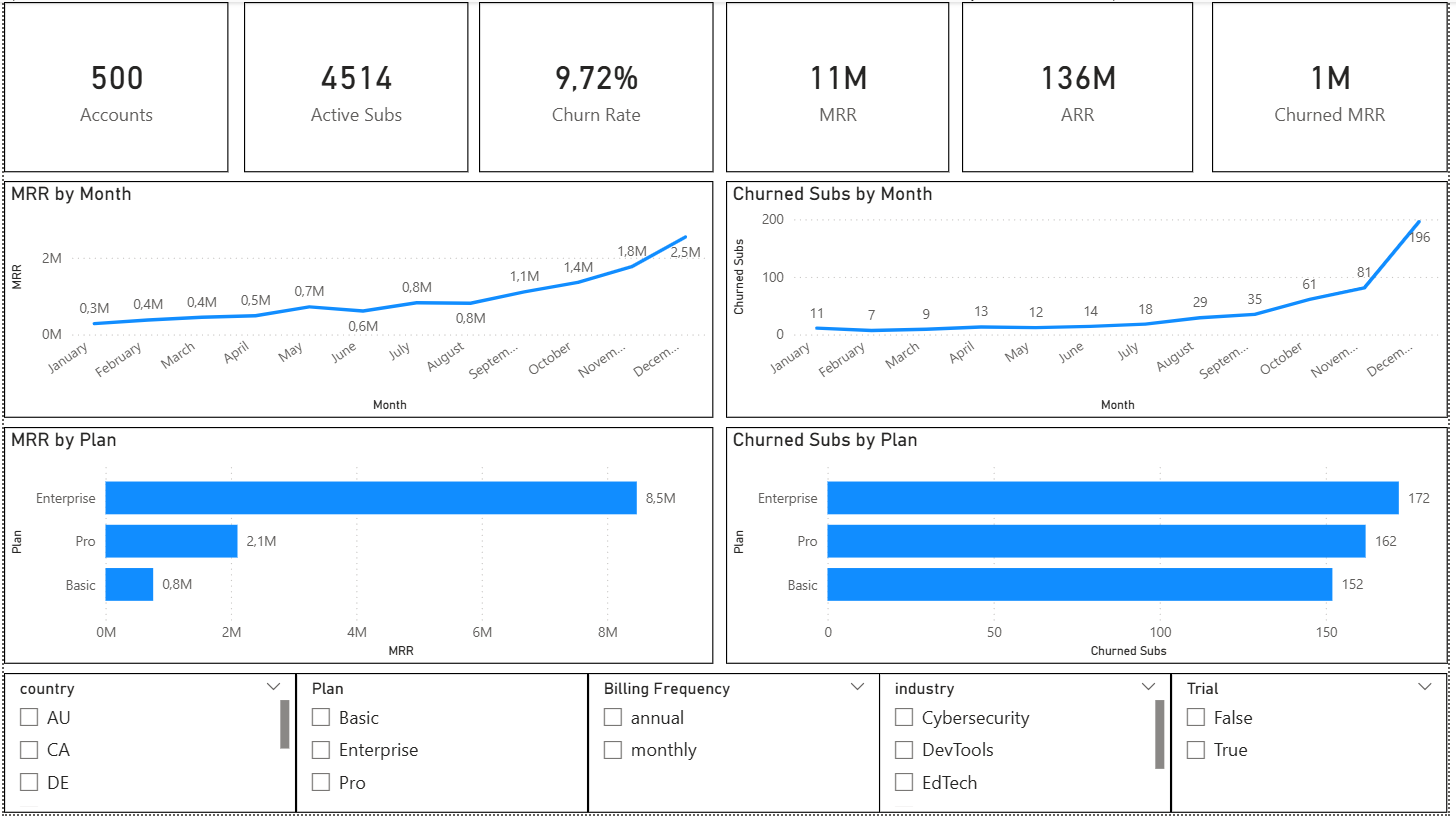

The page's visual inventory and layout, read from the dashboard file:
{"tool":"powerbi","page":{"name":"Overview","canvas":[1280,720],"ordinal":0},"visuals":[{"type":"card","fields":{"Values":["ravenstack_subscriptions.Accounts"]},"box":[0,0,199.4,150.8],"z":0},{"type":"card","fields":{"Values":["ravenstack_subscriptions.Churn Rate"]},"box":[421.2,0,208.1,150.8],"z":1000},{"type":"card","fields":{"Values":["ravenstack_subscriptions.MRR"]},"box":[640,0,198.4,150.8],"z":2000},{"type":"card","fields":{"Values":["ravenstack_subscriptions.ARR"]},"box":[849.1,0,205.2,150.8],"z":3000},{"type":"card","fields":{"Values":["ravenstack_subscriptions.Churned MRR"]},"box":[1070.9,0,209.1,150.8],"z":4000},{"type":"card","fields":{"Values":["ravenstack_subscriptions.Active Subs"]},"box":[213,0,199.4,150.8],"z":5000},{"type":"lineChart","fields":{"Category":["ravenstack_subscriptions.start_date.Variation.Date Hierarchy.Year","ravenstack_subscriptions.start_date.Variation.Date Hierarchy.Quarter","ravenstack_subscriptions.start_date.Variation.Date Hierarchy.Month"],"Y":["ravenstack_subscriptions.MRR"]},"box":[0,158.5,629.3,210.1],"z":6000},{"type":"lineChart","fields":{"Category":["ravenstack_subscriptions.end_date.Variation.Date Hierarchy.Year","ravenstack_subscriptions.end_date.Variation.Date Hierarchy.Quarter","ravenstack_subscriptions.end_date.Variation.Date Hierarchy.Month","ravenstack_subscriptions.end_date.Variation.Date Hierarchy.Day"],"Y":["ravenstack_subscriptions.Churned Subs"]},"box":[640,158.5,640,210.1],"z":7000},{"type":"barChart","fields":{"Category":["ravenstack_subscriptions.plan_tier"],"Y":["ravenstack_subscriptions.MRR"]},"box":[0,376.4,629.3,210.1],"z":8000},{"type":"barChart","fields":{"Category":["ravenstack_subscriptions.plan_tier"],"Y":["ravenstack_subscriptions.Churned Subs"]},"box":[640,376.4,640,210.1],"z":9000},{"type":"slicer","fields":{"Values":["ravenstack_accounts.country"]},"box":[0,595.3,258.7,124.5],"z":10000},{"type":"slicer","fields":{"Values":["ravenstack_subscriptions.plan_tier"]},"box":[258.7,595.3,258.7,124.5],"z":11000},{"type":"slicer","fields":{"Values":["ravenstack_subscriptions.billing_frequency"]},"box":[517.4,595.3,258.7,124.5],"z":12000},{"type":"slicer","fields":{"Values":["ravenstack_accounts.industry"]},"box":[776.2,595.3,258.7,124.5],"z":13000},{"type":"slicer","fields":{"Values":["ravenstack_subscriptions.is_trial"]},"box":[1034.9,595.3,245.1,124.5],"z":14000}]}

Visuals, with their boxes in screenshot pixels (x1, y1, x2, y2), scaled from the page's 1280x720 canvas onto the 1456x822 screenshot:
card - ravenstack_subscriptions.Accounts: 0, 0, 227, 172
card - ravenstack_subscriptions.Churn Rate: 479, 0, 716, 172
card - ravenstack_subscriptions.MRR: 728, 0, 954, 172
card - ravenstack_subscriptions.ARR: 966, 0, 1199, 172
card - ravenstack_subscriptions.Churned MRR: 1218, 0, 1455, 172
card - ravenstack_subscriptions.Active Subs: 242, 0, 469, 172
lineChart - ravenstack_subscriptions.start_date.Variation.Date Hierarchy.Year x ravenstack_subscriptions.start_date.Variation.Date Hierarchy.Quarter: 0, 181, 716, 421
lineChart - ravenstack_subscriptions.end_date.Variation.Date Hierarchy.Year x ravenstack_subscriptions.end_date.Variation.Date Hierarchy.Quarter: 728, 181, 1455, 421
barChart - ravenstack_subscriptions.plan_tier x ravenstack_subscriptions.MRR: 0, 430, 716, 670
barChart - ravenstack_subscriptions.plan_tier x ravenstack_subscriptions.Churned Subs: 728, 430, 1455, 670
slicer - ravenstack_accounts.country: 0, 680, 294, 821
slicer - ravenstack_subscriptions.plan_tier: 294, 680, 589, 821
slicer - ravenstack_subscriptions.billing_frequency: 589, 680, 883, 821
slicer - ravenstack_accounts.industry: 883, 680, 1177, 821
slicer - ravenstack_subscriptions.is_trial: 1177, 680, 1455, 821
